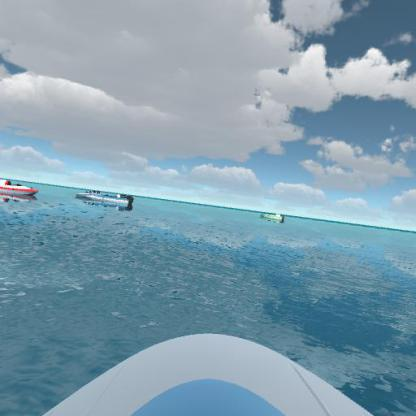usv0: (258, 206, 291, 228)
usv1: (87, 190, 141, 211), (73, 184, 104, 201)
usv3: (0, 172, 38, 202)
